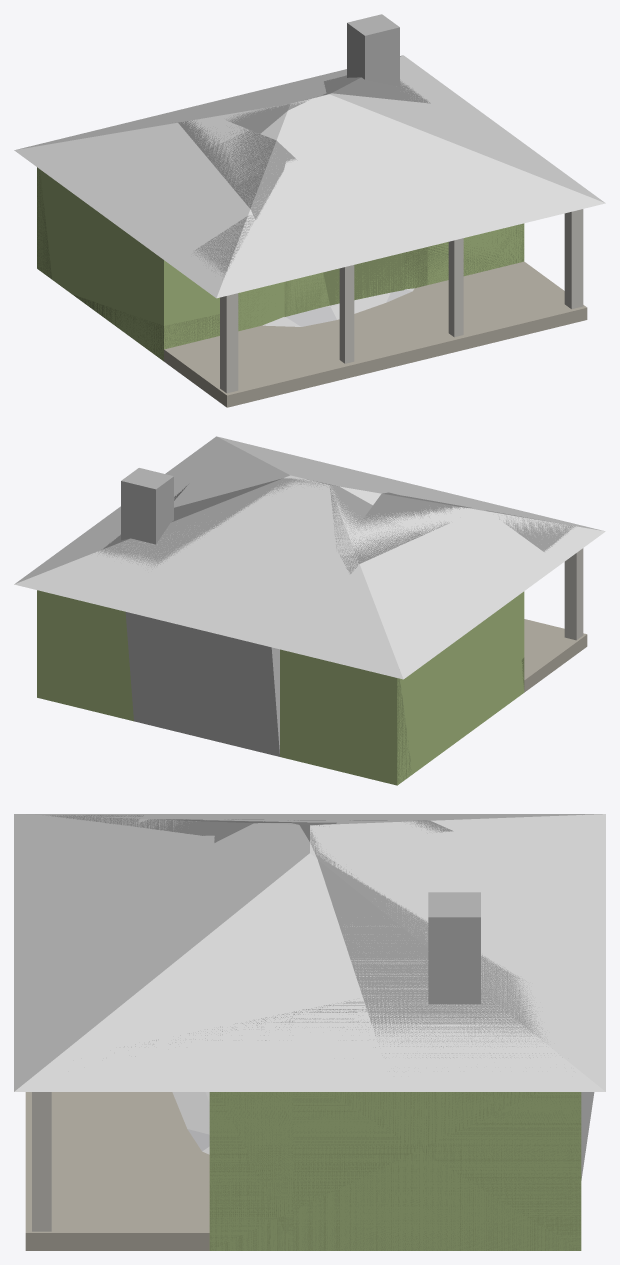
File: bld_bungalow_a.glb
3 renders of one model, top to bottom at view 1: azimuth 30°, elevation 25°; view 2: azimuth 150°, elevation 25°; view 3: azimuth 270°, elevation 25°, orthographic. The views are drawn at different scales.
Visible parts, largest first — view 1: intact, damaged, chunk_00, chunk_01, chunk_03, chunk_02, chunk_05, chunk_04, rubble; view 2: chunk_04, chunk_03, damaged, intact, chunk_05, chunk_00, chunk_02, chunk_01; view 3: intact, chunk_05, damaged, chunk_02, chunk_04, chunk_01, chunk_03, chunk_00, rubble.
Boxes of the visible parts, x1,y1,x2,y2 form: intact: (37, 83, 587, 407); damaged: (37, 14, 523, 360); chunk_00: (121, 170, 347, 361); chunk_01: (281, 151, 493, 317); chunk_03: (14, 115, 209, 340); chunk_02: (427, 123, 605, 284); chunk_05: (293, 55, 509, 133); chunk_04: (147, 81, 329, 117); rubble: (262, 288, 414, 326); chunk_04: (125, 475, 336, 756); chunk_03: (272, 551, 510, 785); damaged: (37, 468, 575, 785); intact: (105, 448, 587, 784); chunk_05: (14, 495, 175, 719); chunk_00: (412, 497, 605, 712); chunk_02: (165, 436, 327, 495); chunk_01: (297, 462, 473, 499); intact: (25, 815, 574, 1250); chunk_05: (293, 977, 605, 1250); damaged: (46, 815, 581, 1250); chunk_02: (14, 976, 293, 1250); chunk_04: (308, 825, 605, 1180); chunk_01: (14, 835, 217, 1012); chunk_03: (293, 814, 605, 907); chunk_00: (14, 814, 293, 907); rubble: (172, 1092, 209, 1154).
Bounding box in the file's own units: 10 × 5 × 9.
